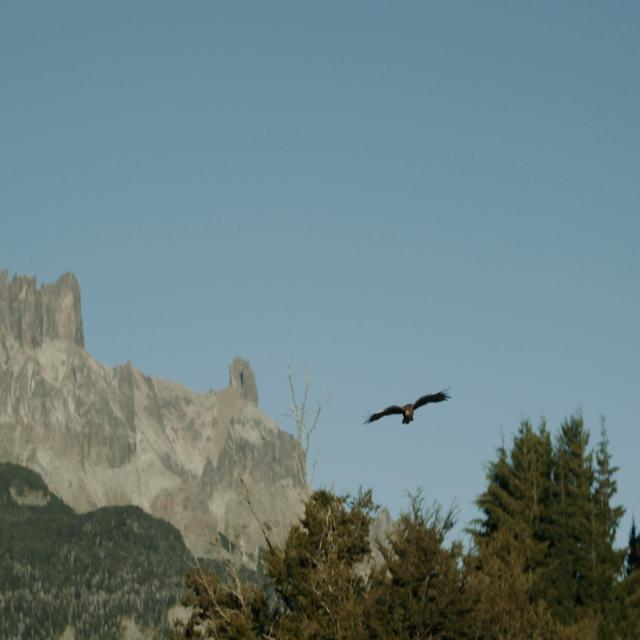bird: (357, 378, 456, 443)
